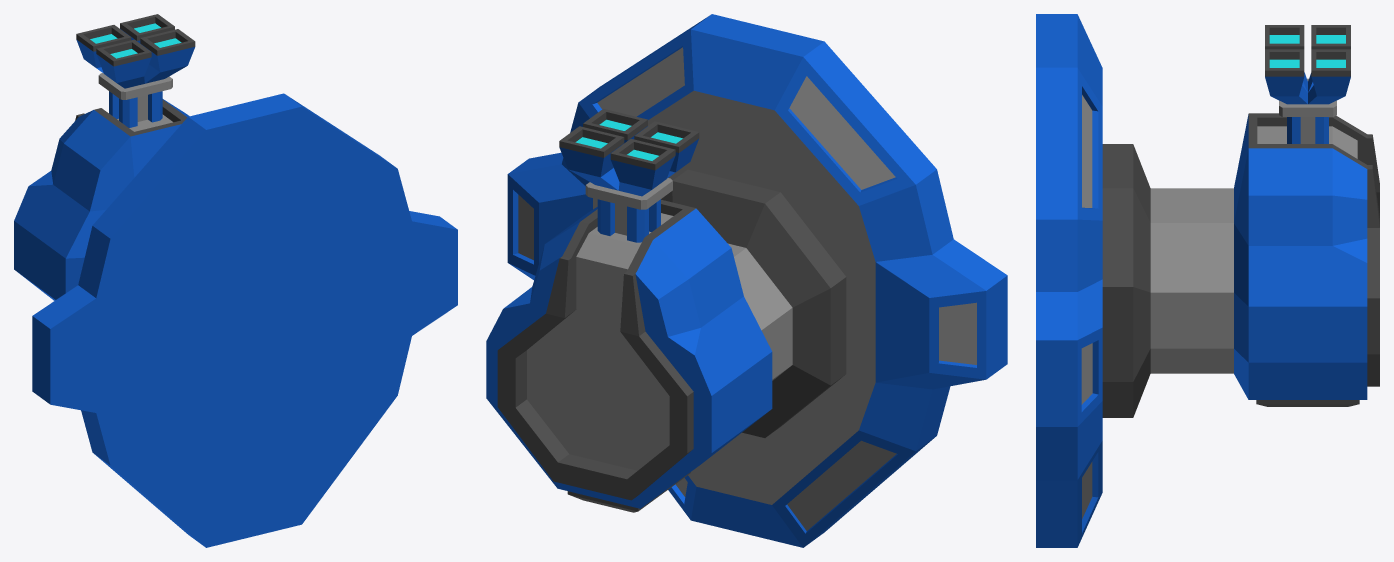
Rendered from Instrument_TractorBeam_2.fbx.
3 views of the same model, side by side, from view 1: azimuth 30°, elevation 25°; view 2: azimuth 150°, elevation 25°; view 3: azimuth 270°, elevation 25° (orthographic). The views are drawn at different scales.
Parts seen in each view (by area): view 1: TurretBase, TurretBody, TurretBarrel; view 2: TurretBase, TurretBody, TurretBarrel; view 3: TurretBody, TurretBase, TurretBarrel.
Boxes of the visible parts, x1,y1,x2,y2 form: TurretBase: [32, 93, 457, 547]; TurretBody: [14, 99, 189, 300]; TurretBarrel: [76, 14, 195, 127]; TurretBase: [507, 14, 1007, 547]; TurretBody: [486, 169, 846, 512]; TurretBarrel: [559, 108, 699, 242]; TurretBody: [1102, 113, 1379, 417]; TurretBase: [1036, 14, 1102, 547]; TurretBarrel: [1265, 25, 1350, 143].
Bounding box in the file's own units: 1.2 × 1.18 × 0.7636.
